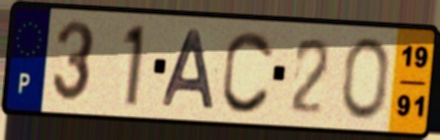1: (119, 22, 148, 109)
2: (288, 36, 333, 117)
3: (48, 19, 96, 105)
A: (160, 28, 218, 112)
C: (219, 27, 277, 117)
O: (341, 35, 391, 123)
